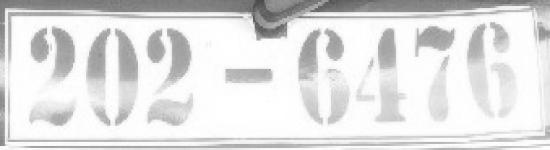-: (220, 57, 282, 92)
0: (81, 22, 143, 138)
2: (21, 20, 84, 136), (143, 21, 199, 135)
4: (355, 20, 413, 128)
6: (460, 15, 524, 126), (294, 20, 354, 131)
7: (412, 19, 460, 128)
